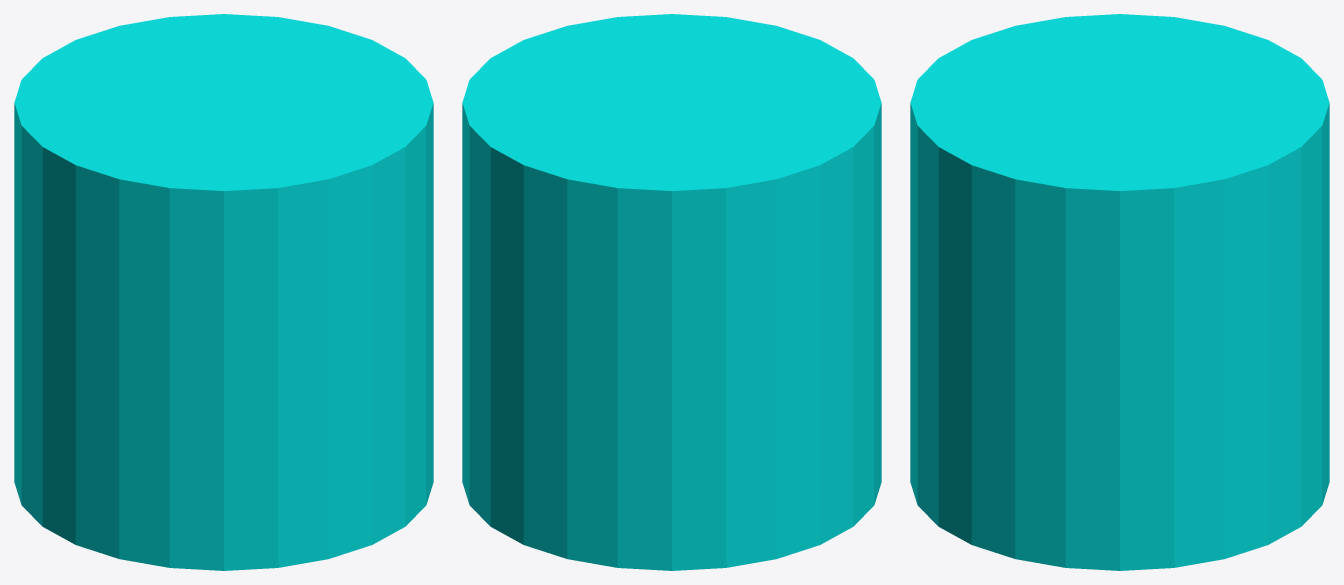
The picture shows the model from 3 angles, left to right: view 1: azimuth 30°, elevation 25°; view 2: azimuth 150°, elevation 25°; view 3: azimuth 270°, elevation 25°; orthographic projection.
Size of the model in its own units: 2 by 2 by 2.
